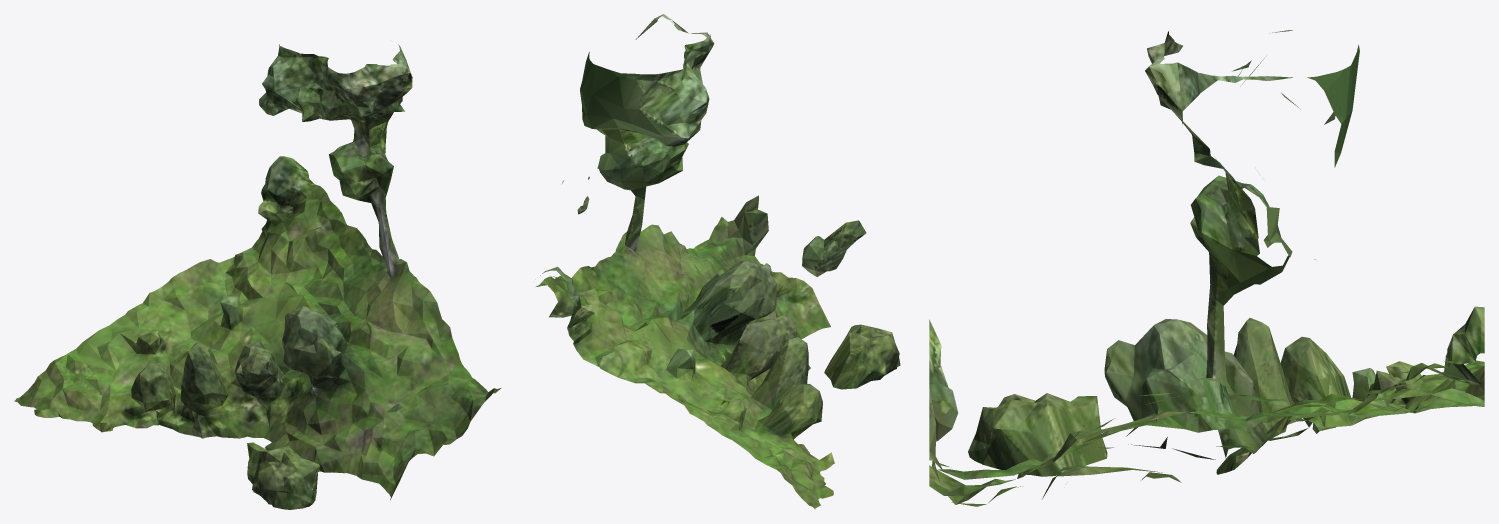
3 renders of one model, left to right at view 1: azimuth 30°, elevation 25°; view 2: azimuth 150°, elevation 25°; view 3: azimuth 270°, elevation 25°, orthographic. The views are drawn at different scales.
Size of the model in its own units: 22.47 by 26.11 by 26.11.
Materials: 3 (3 with a texture image).
